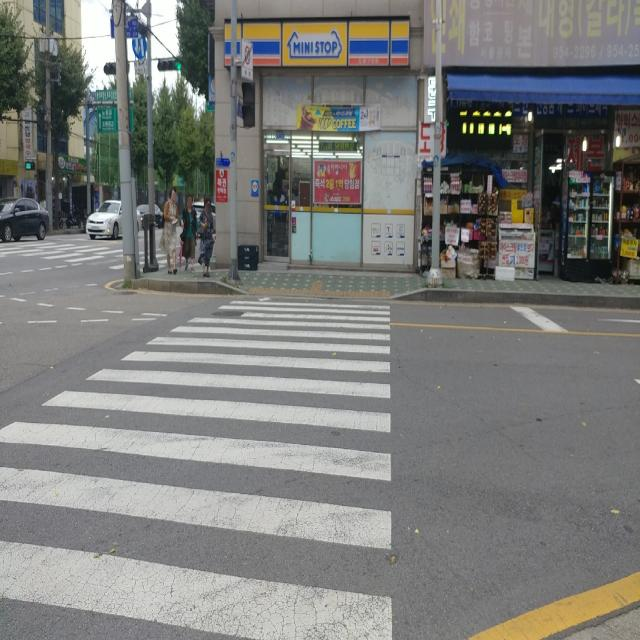횡단보도: (0, 296, 395, 639), (0, 234, 174, 268)
